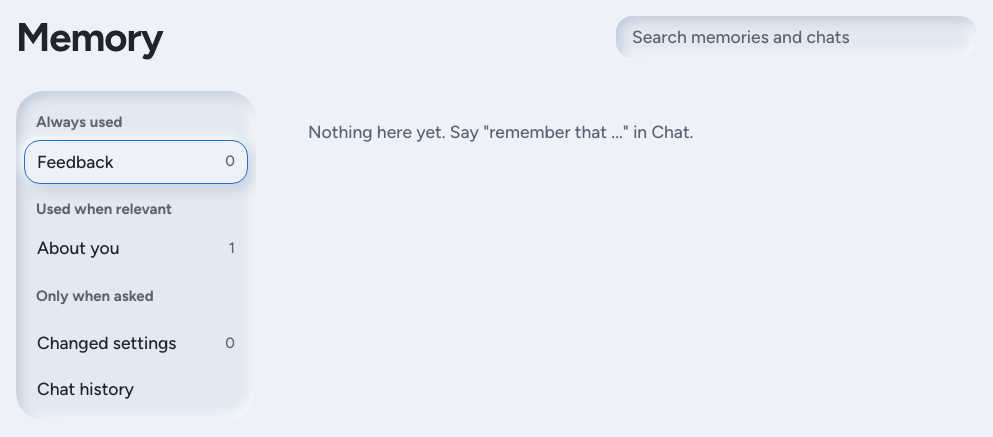
Test: Memory page: search and chat history › Clear all history asks first, then clears and shows the empty state
The width and height of the screenshot is (993, 437).
Click the button "Chat history": (136, 389) [24,367,248,412]
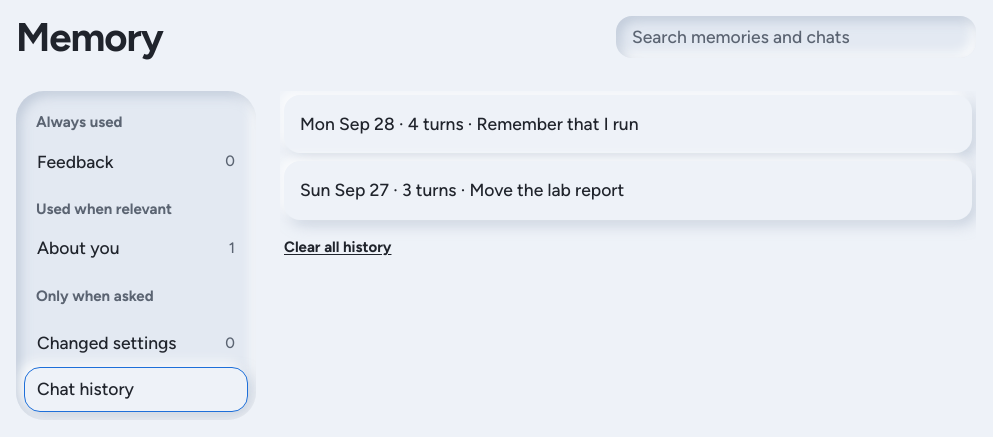
Click the button "Clear all history": (338, 248) [284,232,392,264]
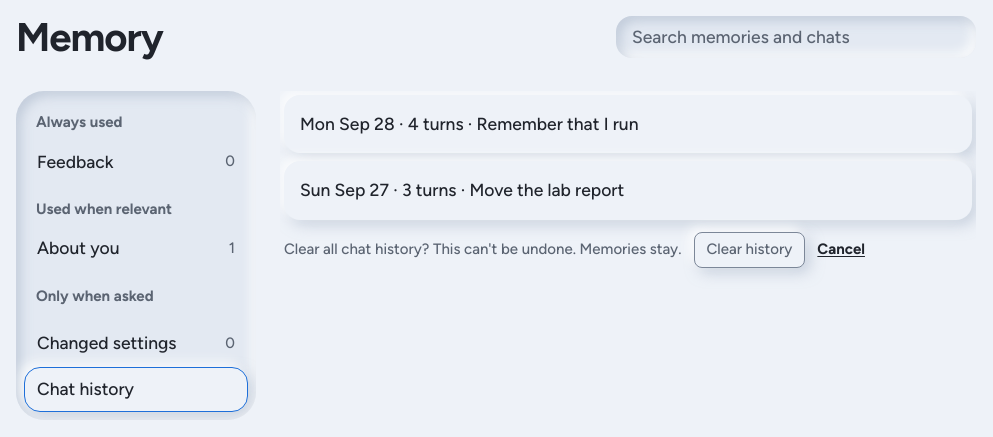
Expected: the text "Clear all chat history? This can't be undone. Memories stay." is shown, [284,238,682,261]
Click the button "Clear history": (749, 250) [694,232,805,268]
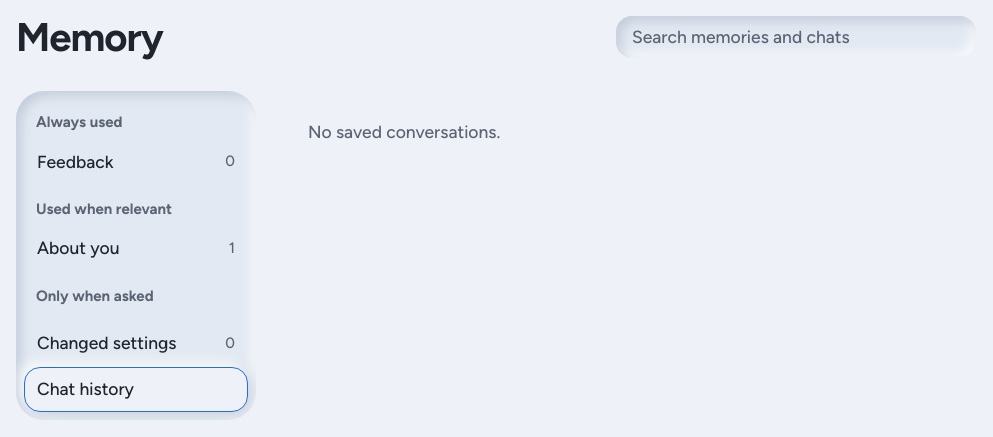
Expected: the text "No saved conversations." is shown, [308,121,500,142]
